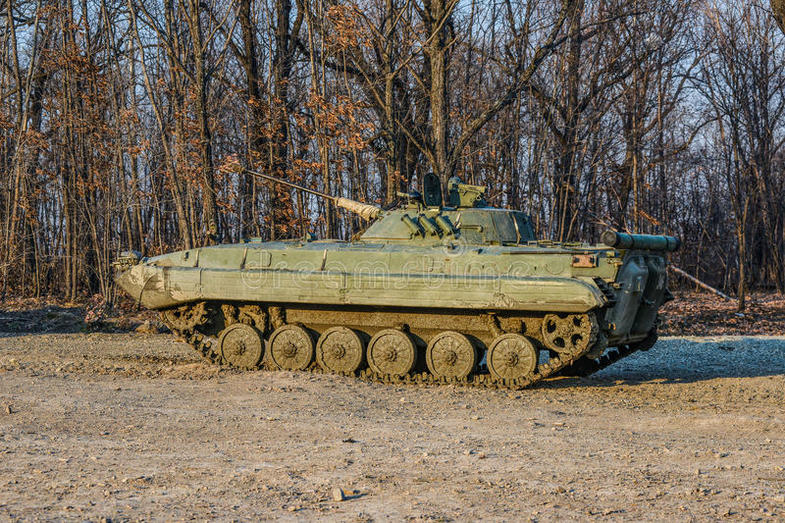bmp: (119, 173, 670, 386)
